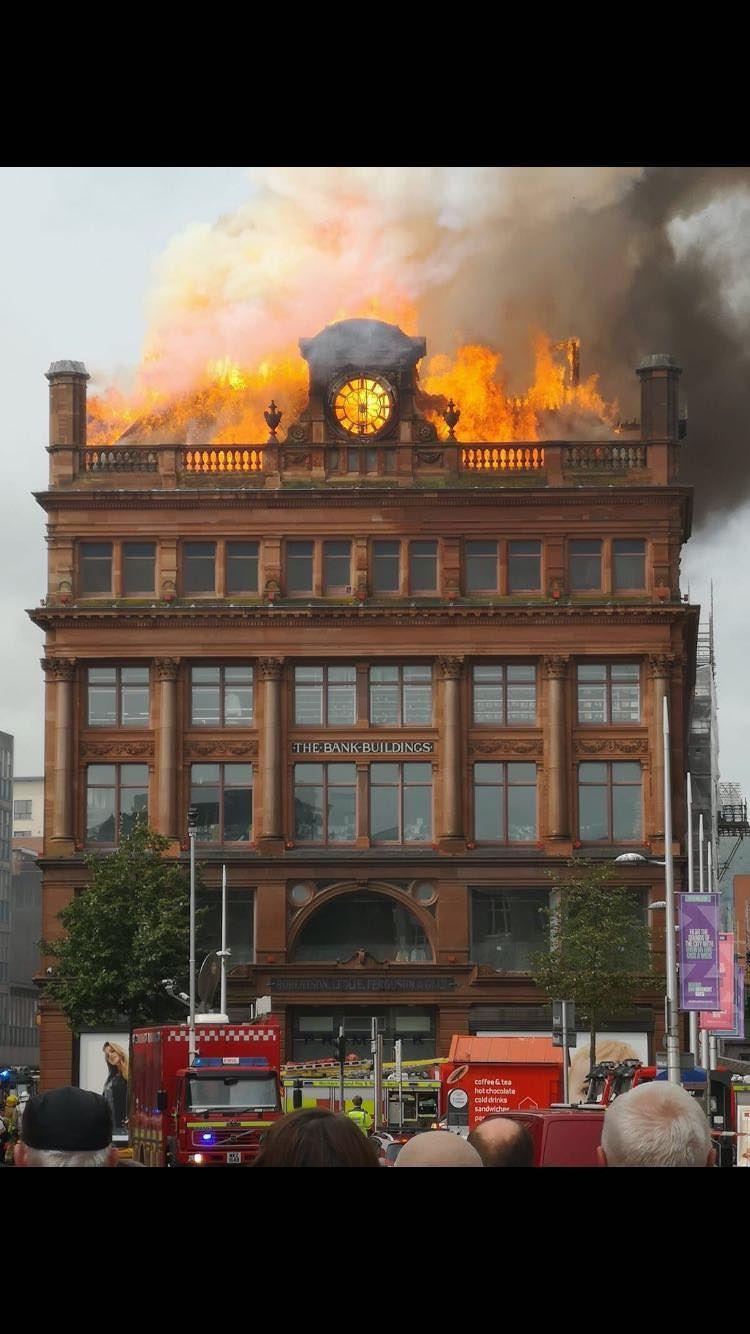fire: (421, 335, 599, 462), (105, 360, 314, 443)
smoke: (417, 176, 739, 338), (165, 191, 409, 330), (628, 343, 746, 494)
